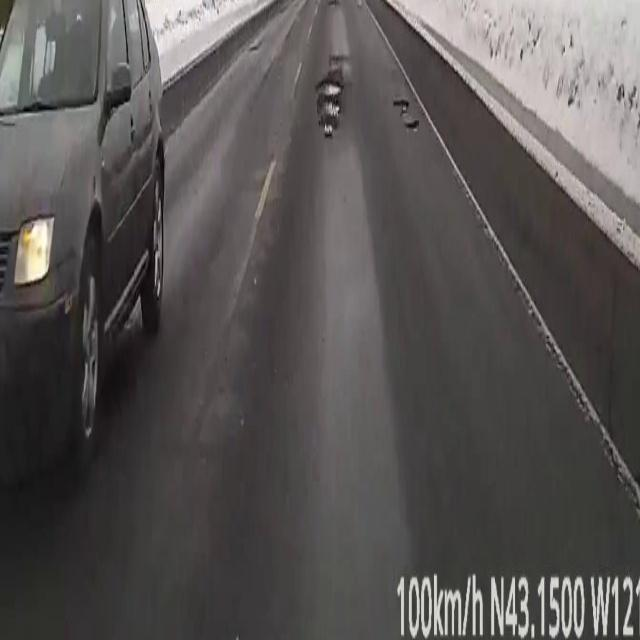pothole: (316, 78, 341, 138), (394, 100, 419, 134), (328, 1, 336, 6)
